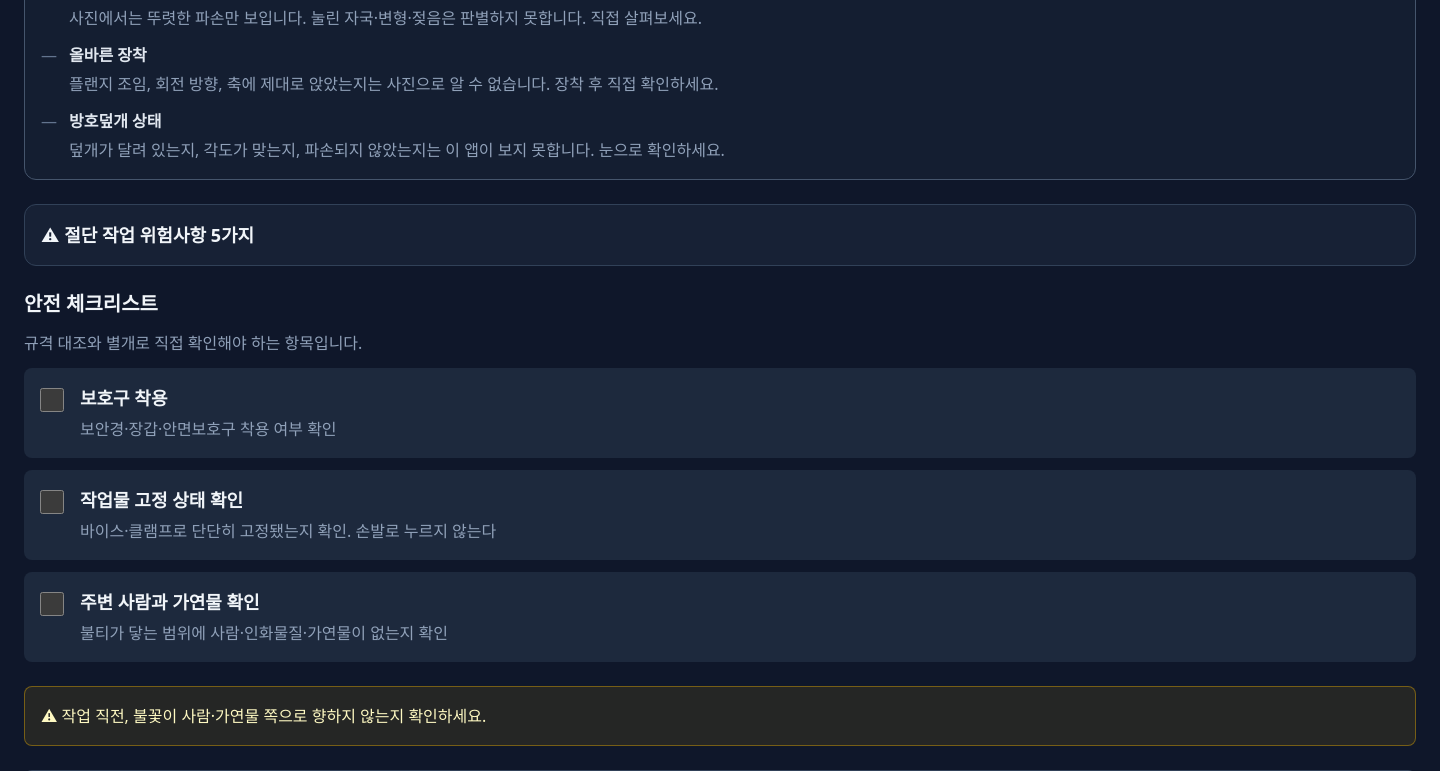
Test case: 결과 화면 — 새로고침으로 되살아난 값 › 온전한 시험운전 타이머는 새로고침 뒤에도 남은 시간 그대로 이어진다
(page scrolled)
Click the checkbox labelled "보호구 착용 보안경·장갑·안면보호구 착용 여부 확인" at [52, 400], box [40,388,64,412]
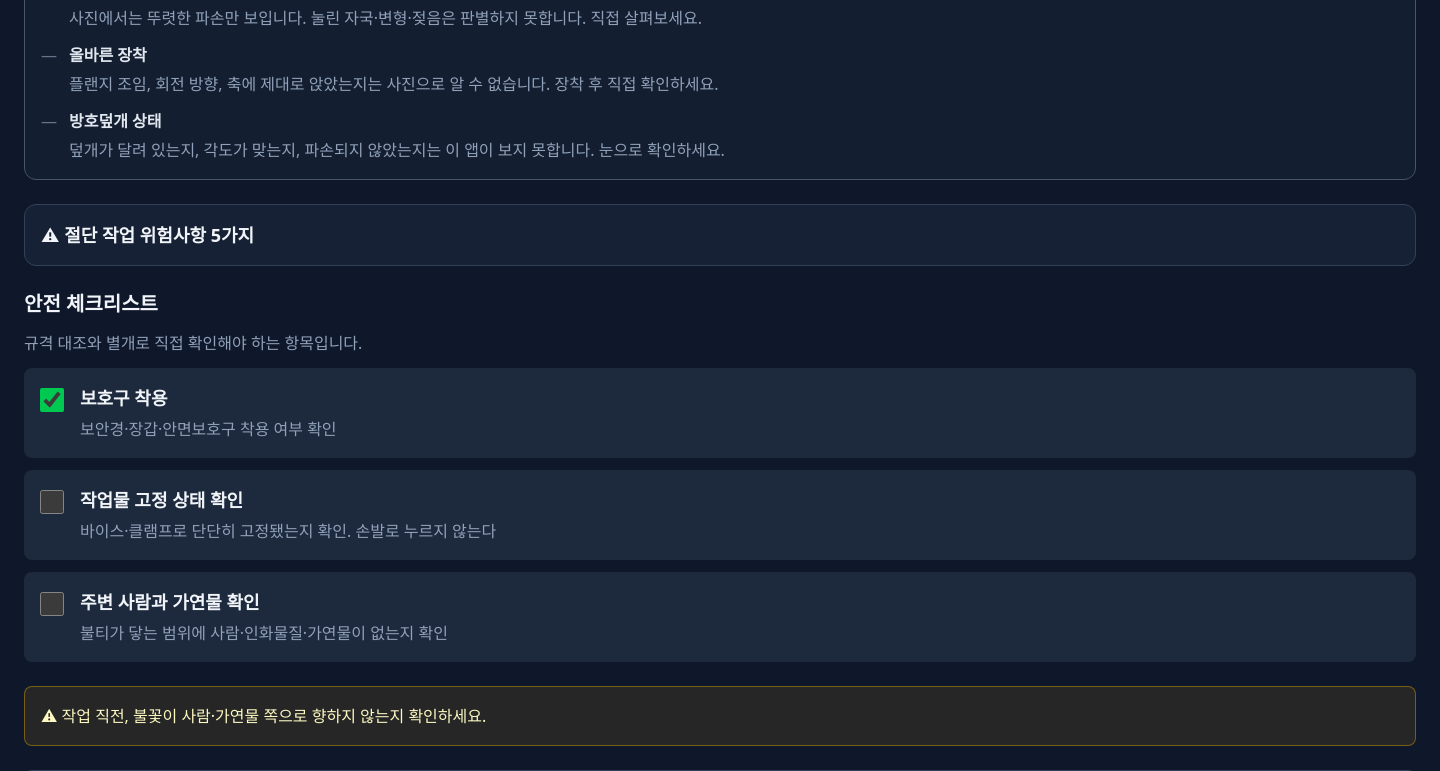
Click the checkbox labelled "작업물 고정 상태 확인 바이스·클램프로 단단히 고정됐는지 확인. 손발로 누르지 않는다" at [52, 502], box [40,490,64,514]
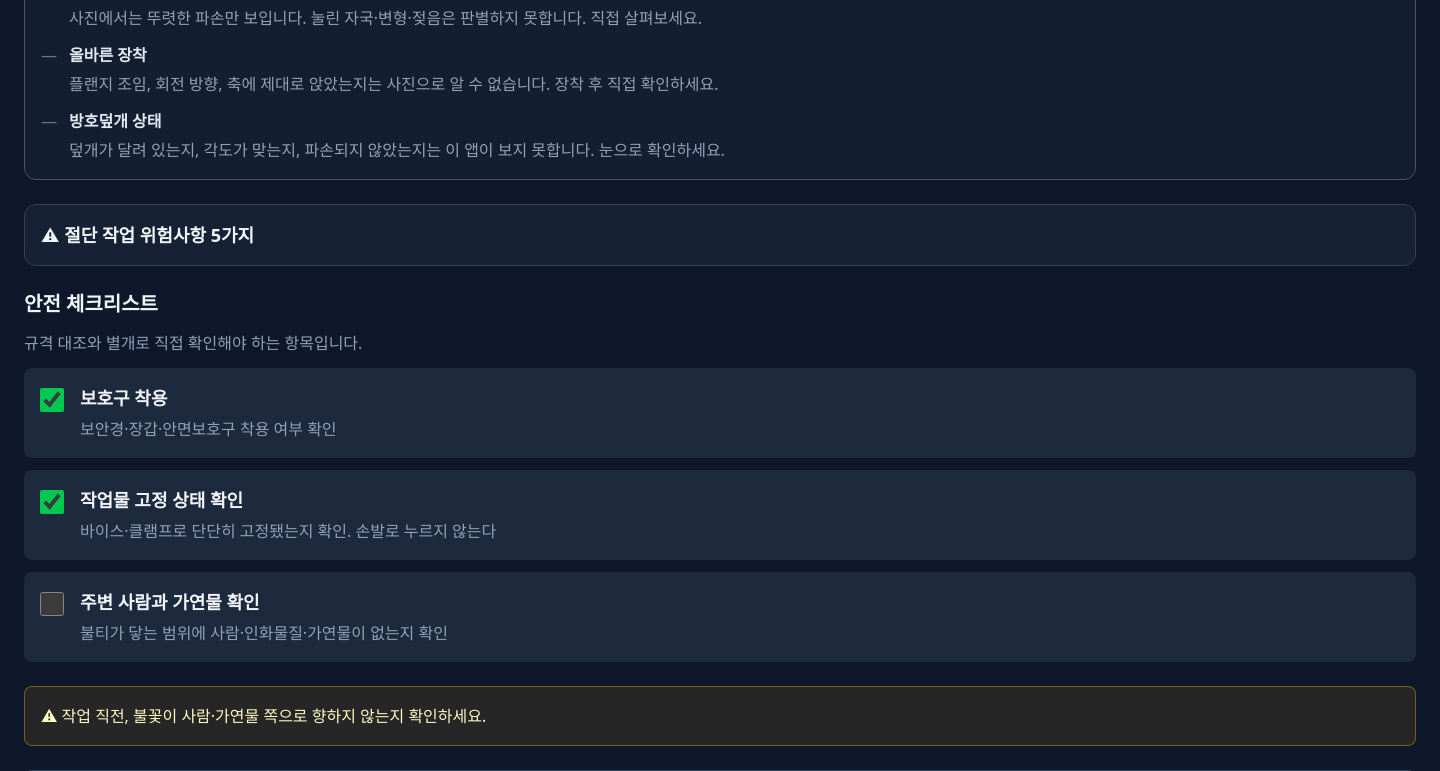
Click the checkbox labelled "주변 사람과 가연물 확인 불티가 닿는 범위에 사람·인화물질·가연물이 없는지 확인" at [52, 604], box [40,592,64,616]
(page scrolled)
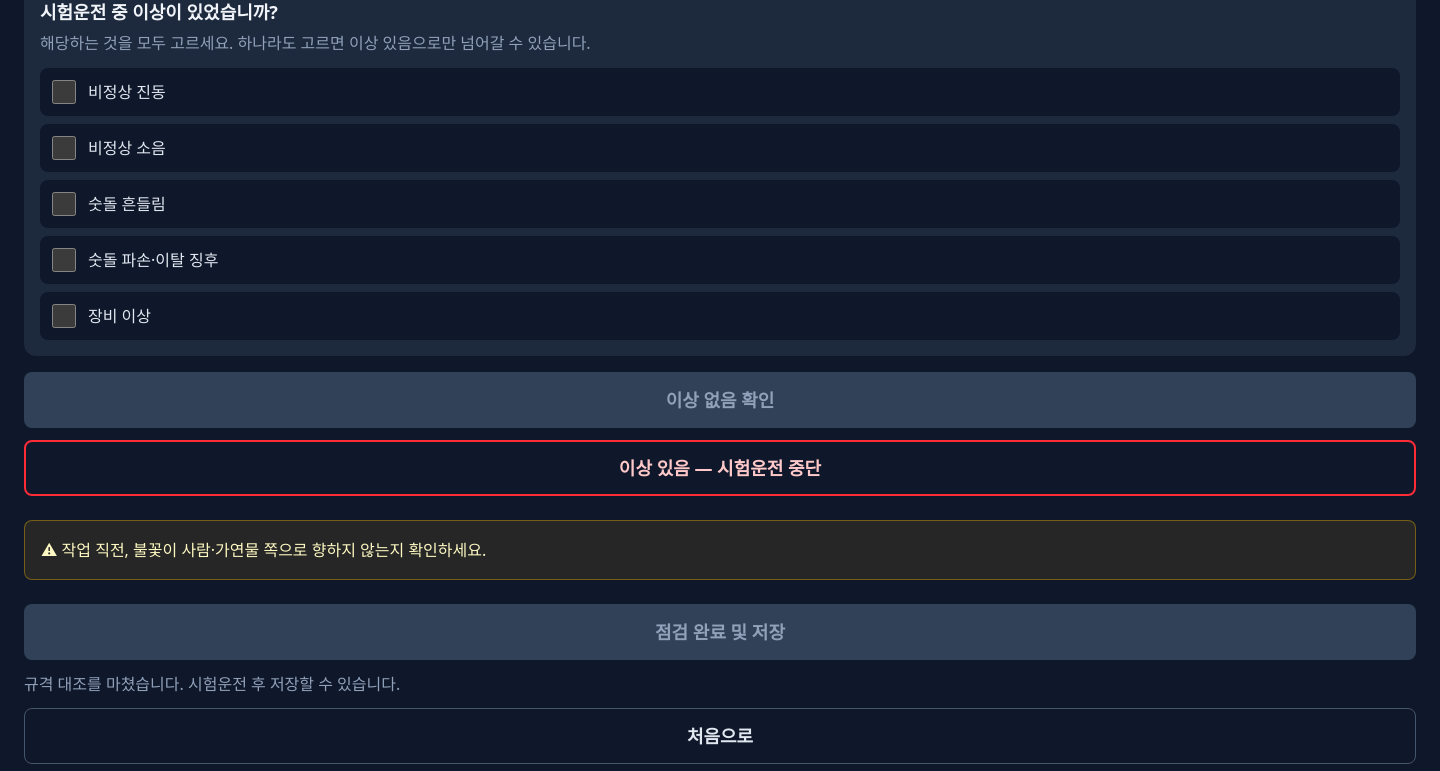
Result: the button "이상 없음 확인" is disabled at [24,372,1416,428]
